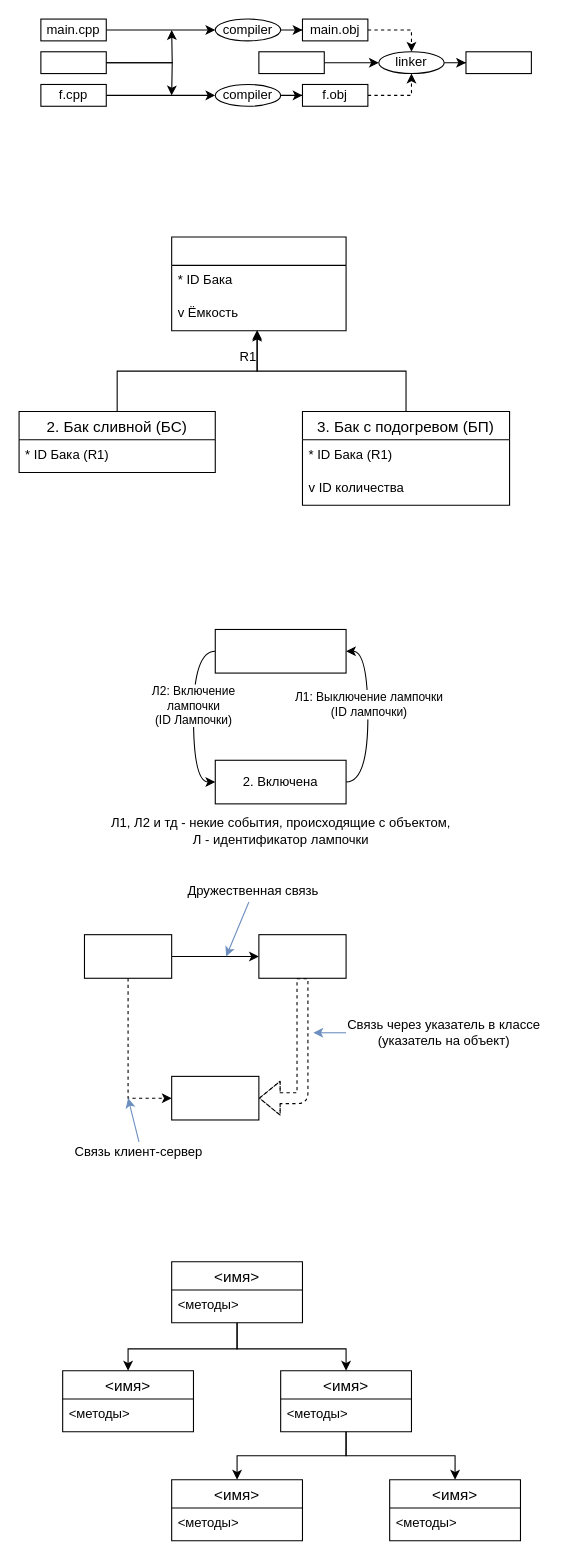
Some shapes in this 561 by 1563 pixel diagram are drawn without their labels. Each missing label, with the box of its shape:
1. Бак (Б): (171, 236, 346, 331)
1. Выключена: (214, 628, 346, 673)
f.h: (40, 51, 106, 74)
main.exe: (465, 51, 531, 74)
project: (258, 51, 324, 74)
